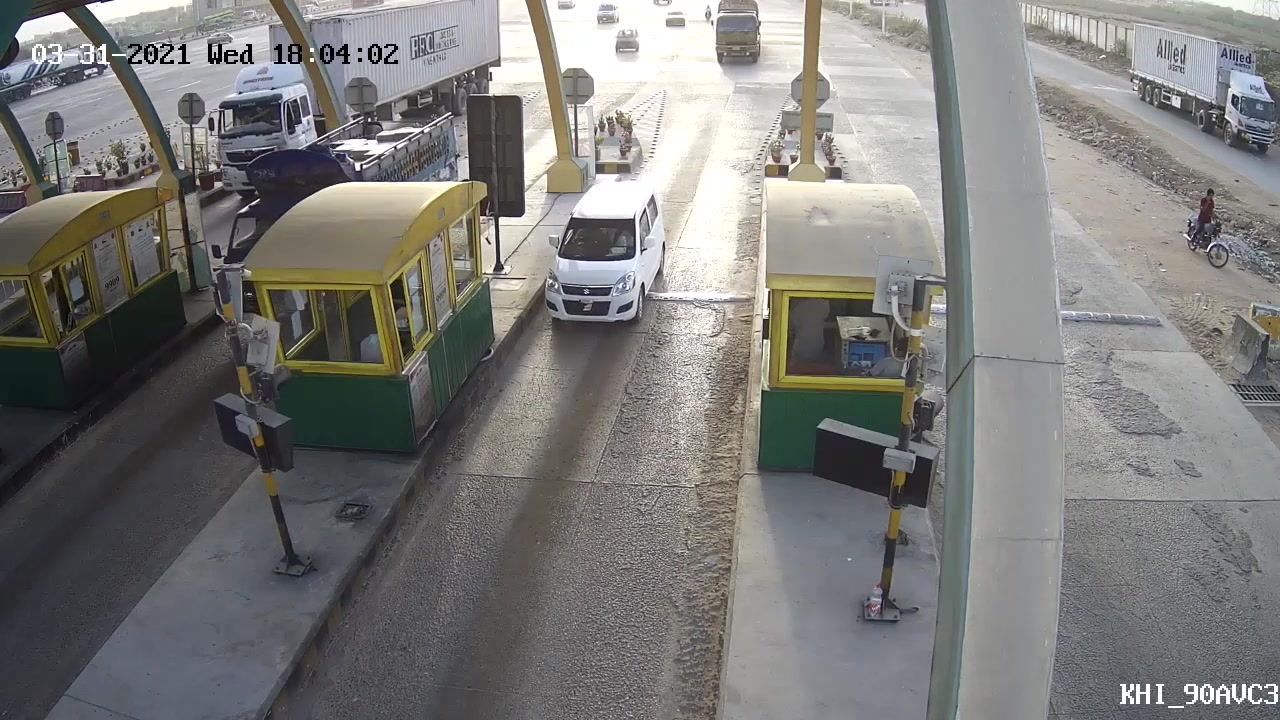F1: (534, 178, 677, 330)
